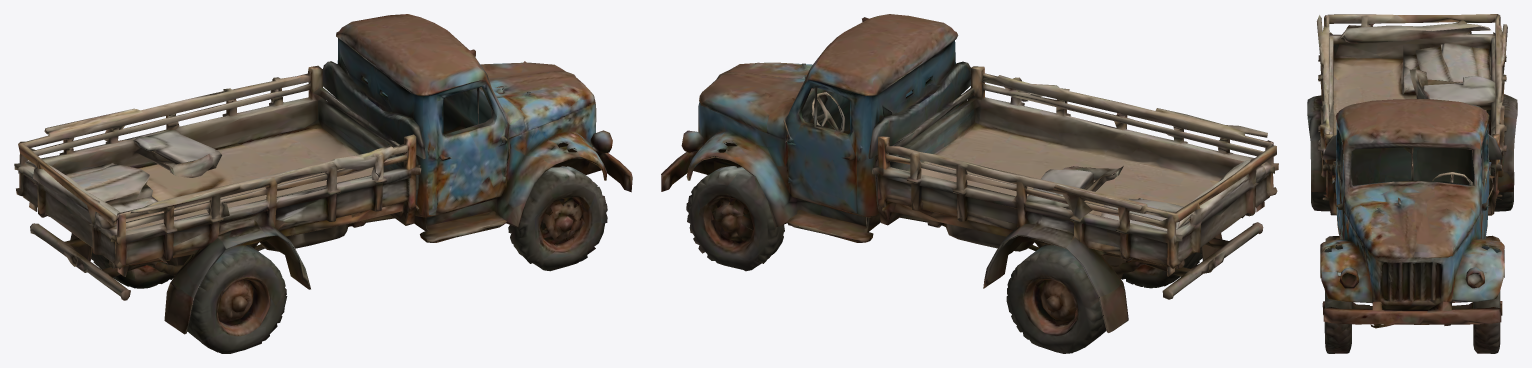
The model's file is zil_wreck_lod1.glb.
3 renders of one model, left to right at view 1: azimuth 30°, elevation 25°; view 2: azimuth 150°, elevation 25°; view 3: azimuth 270°, elevation 25°, orthographic. The views are drawn at different scales.
Visible parts, largest first — view 1: zil_wreck; view 2: zil_wreck; view 3: zil_wreck.
Part boxes in pixels (bbox=[...]): zil_wreck: bbox=[14, 14, 632, 353]; zil_wreck: bbox=[661, 14, 1278, 353]; zil_wreck: bbox=[1307, 14, 1517, 353].
Bounding box in the file's own units: 6.6 × 2.67 × 2.61.
Materials: 1 (1 with a texture image).
